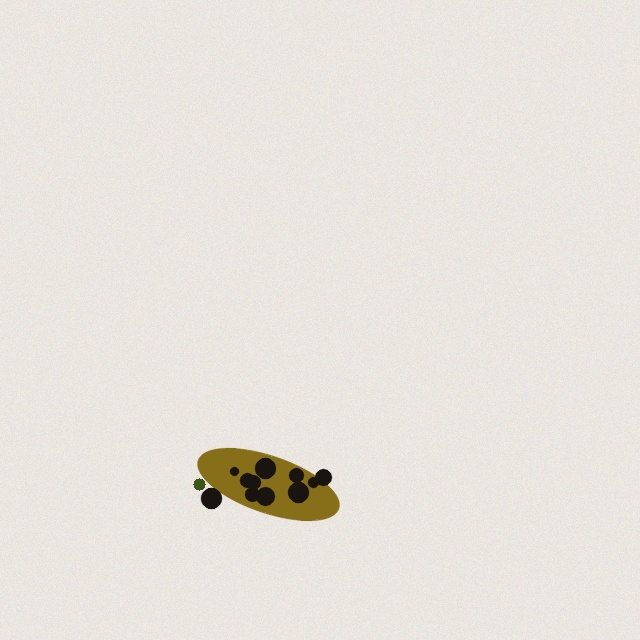Rotten banana: (191, 449, 345, 519)
